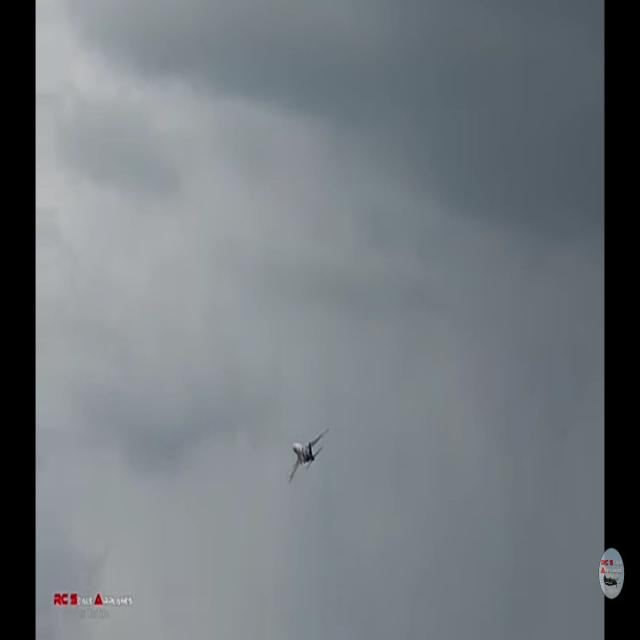iha: (289, 424, 331, 484)
